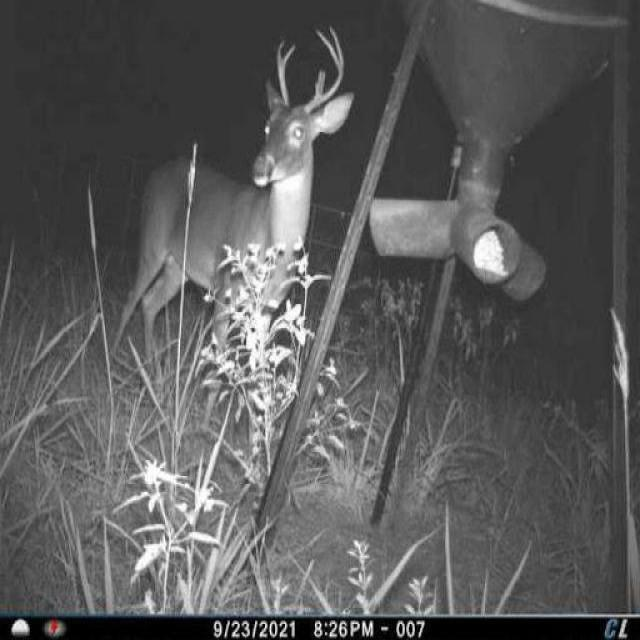deer: (114, 24, 356, 469)
